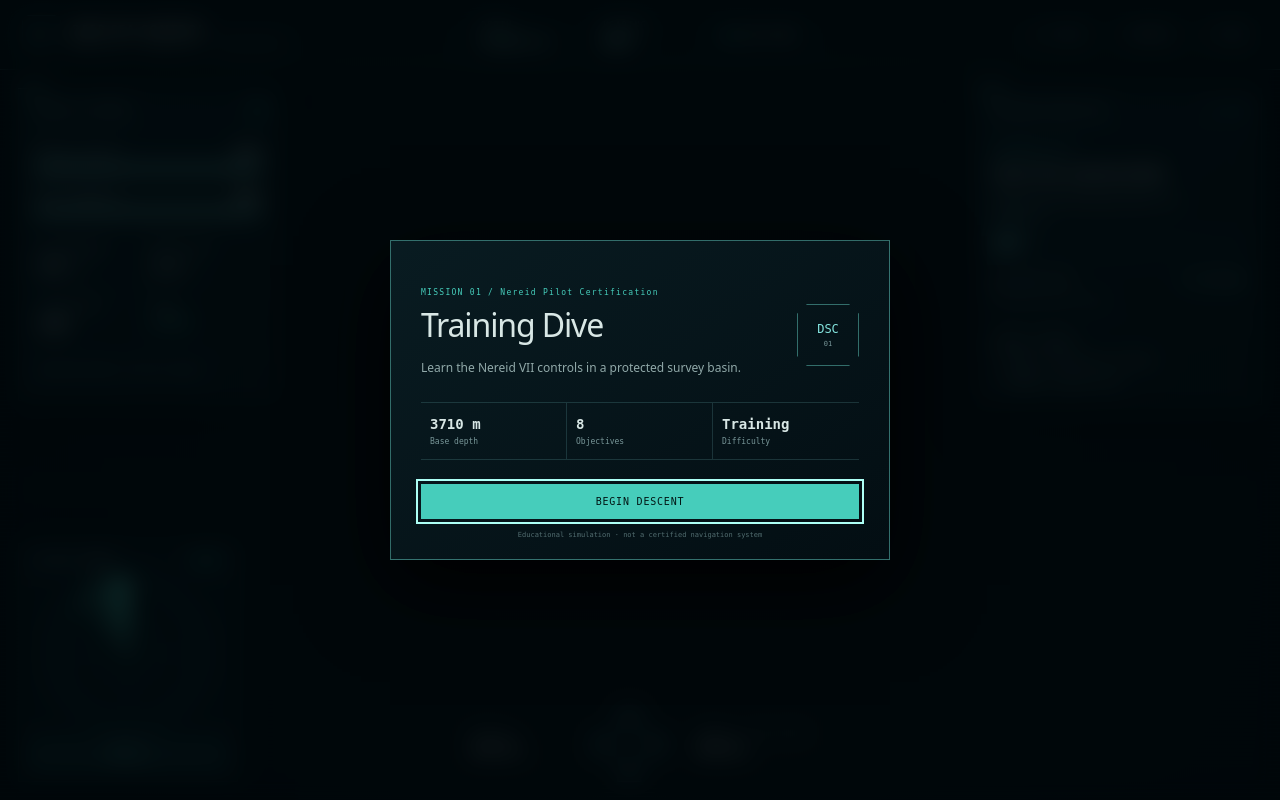
Scenario: application controls › reopens the tutorial from the pause settings
The width and height of the screenshot is (1280, 800).
Click the button "Begin descent". click: (640,502)
box: [421, 484, 859, 519]
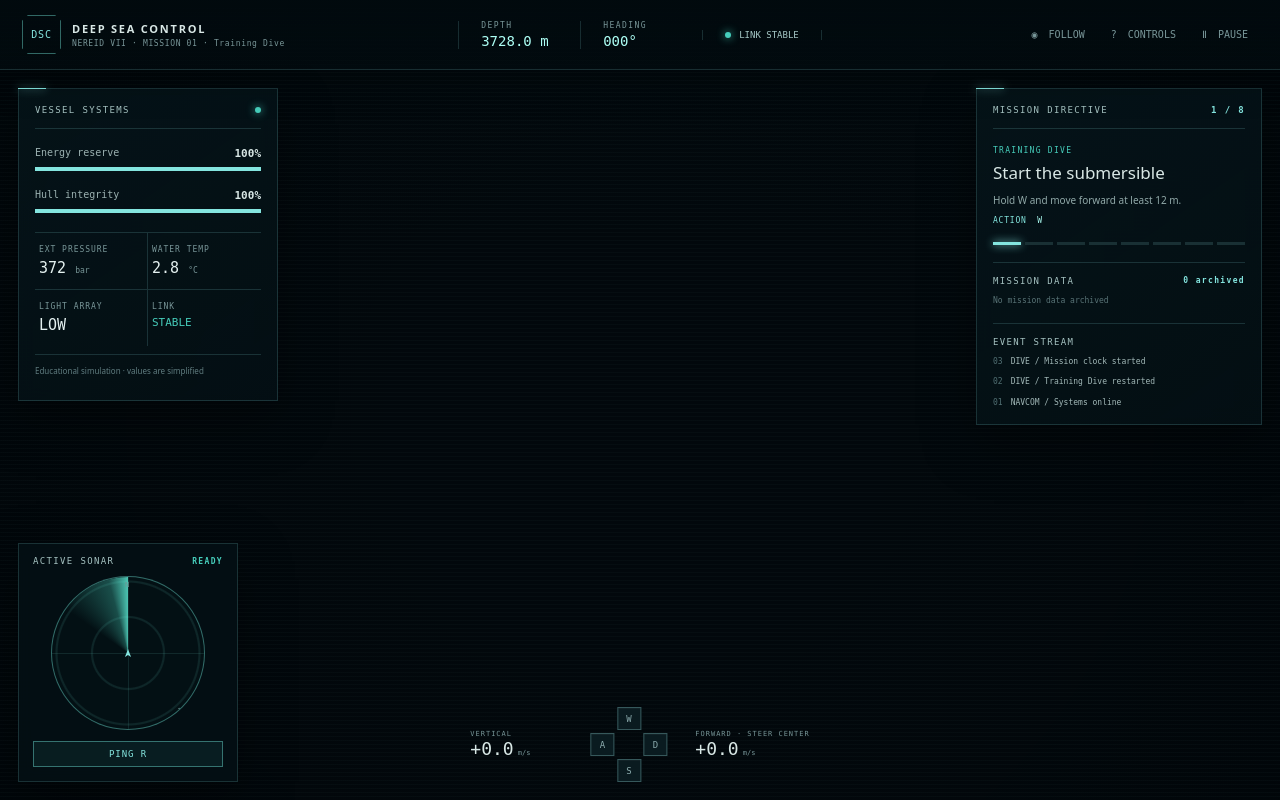
Click the button titled "pause simulation". click: (1225,34)
box: [1192, 21, 1258, 48]
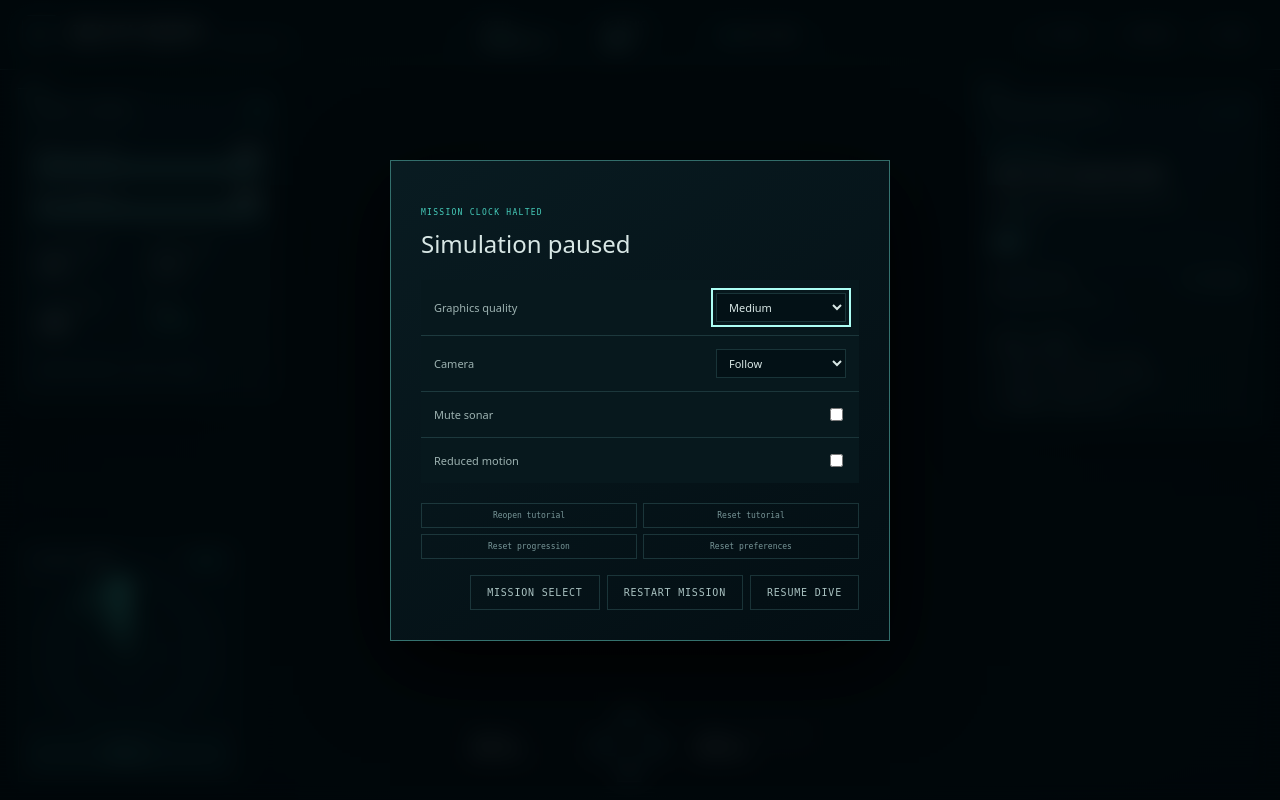
Click the button "Reopen tutorial". click: (529,515)
box: [421, 502, 637, 528]
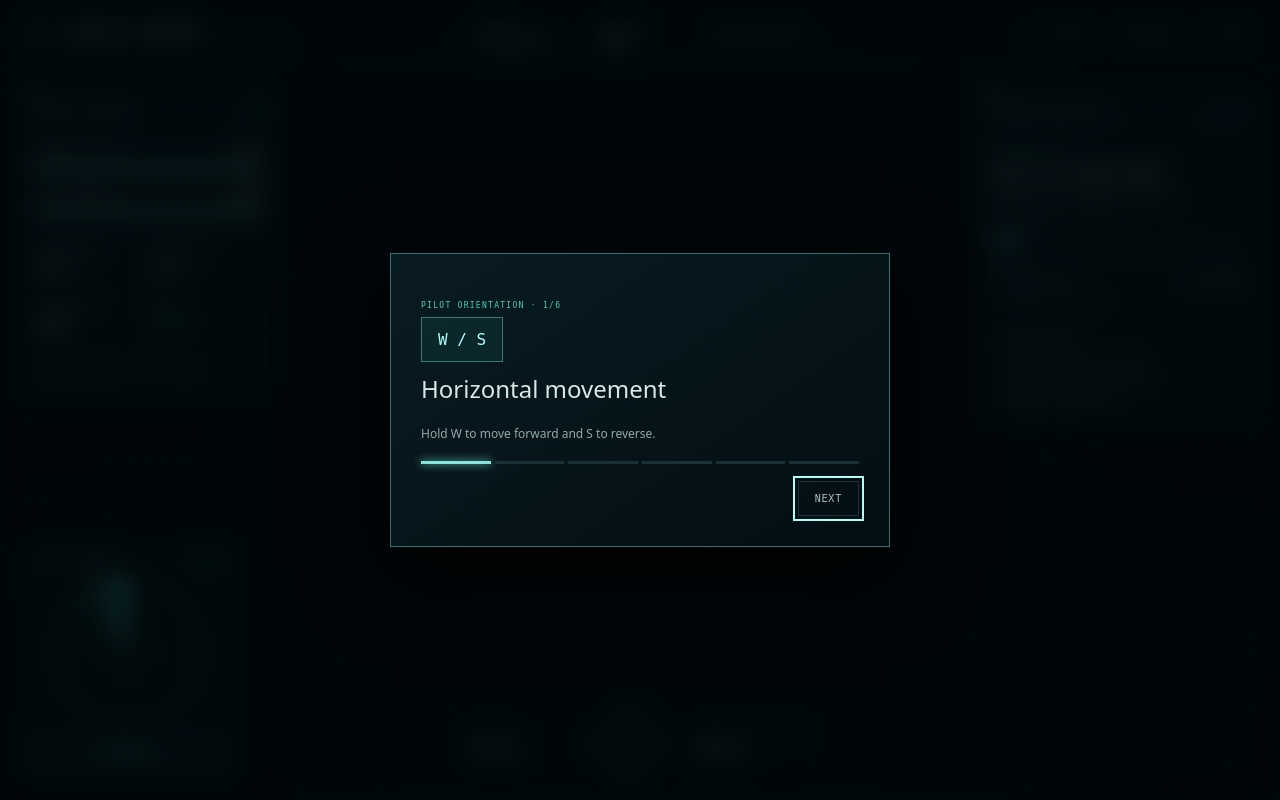
Result: the dialog named "pilot tutorial" is shown at [390, 253, 890, 547]
